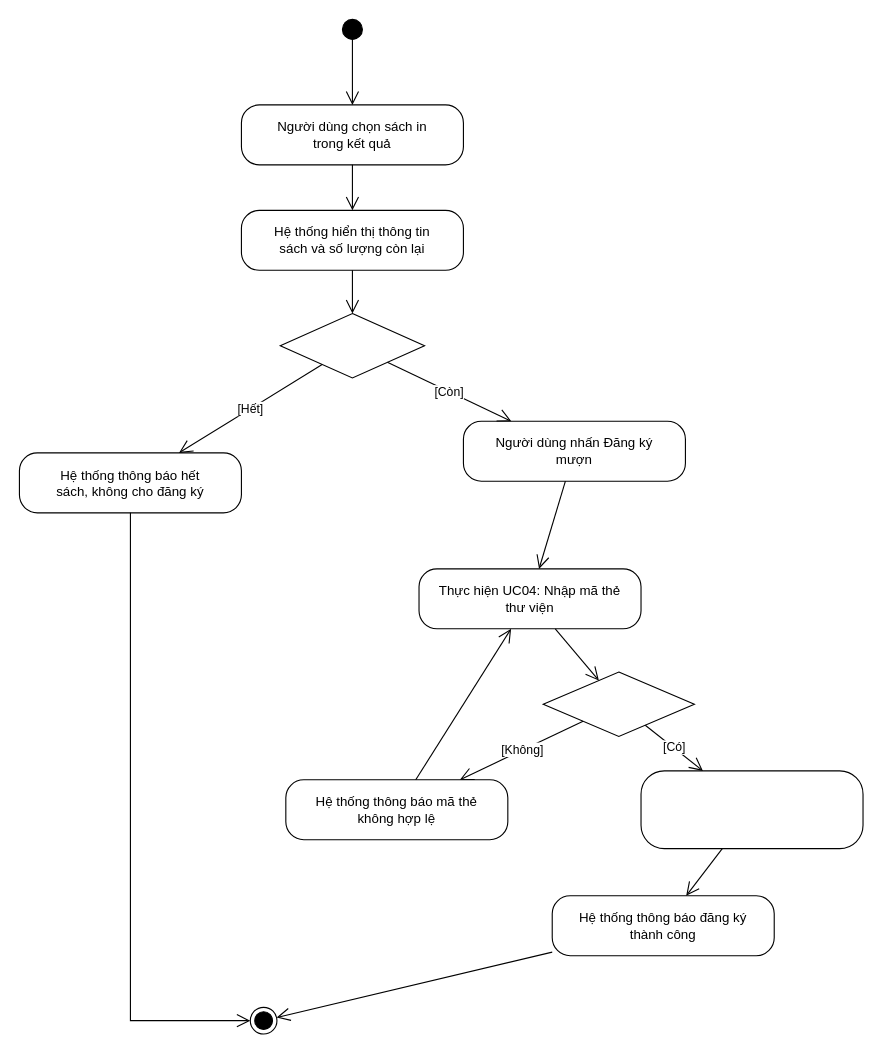
Image size: 882x1053. Some labels were removed from this diagram. The shapes that lost their labels are listed below. From the top down, each one's centre as x and y in pixels, then its label:
At [352,345]: "Còn sách?".
At [618,703]: "Mã thẻ hợp lệ?".
At [751,809]: "Hệ thống ghi nhận đăng ký mượn, cập nhật số lượng sách".
